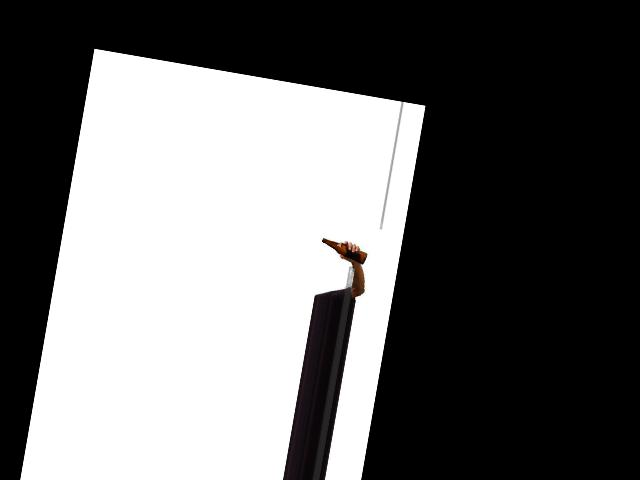beer: (319, 238, 368, 265)
